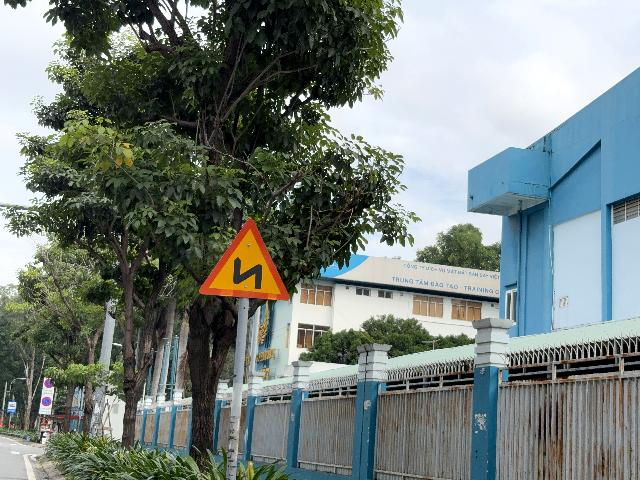nhieu-cho-ngoat-nguy-hiem-lien-tiep: (199, 217, 290, 300)
